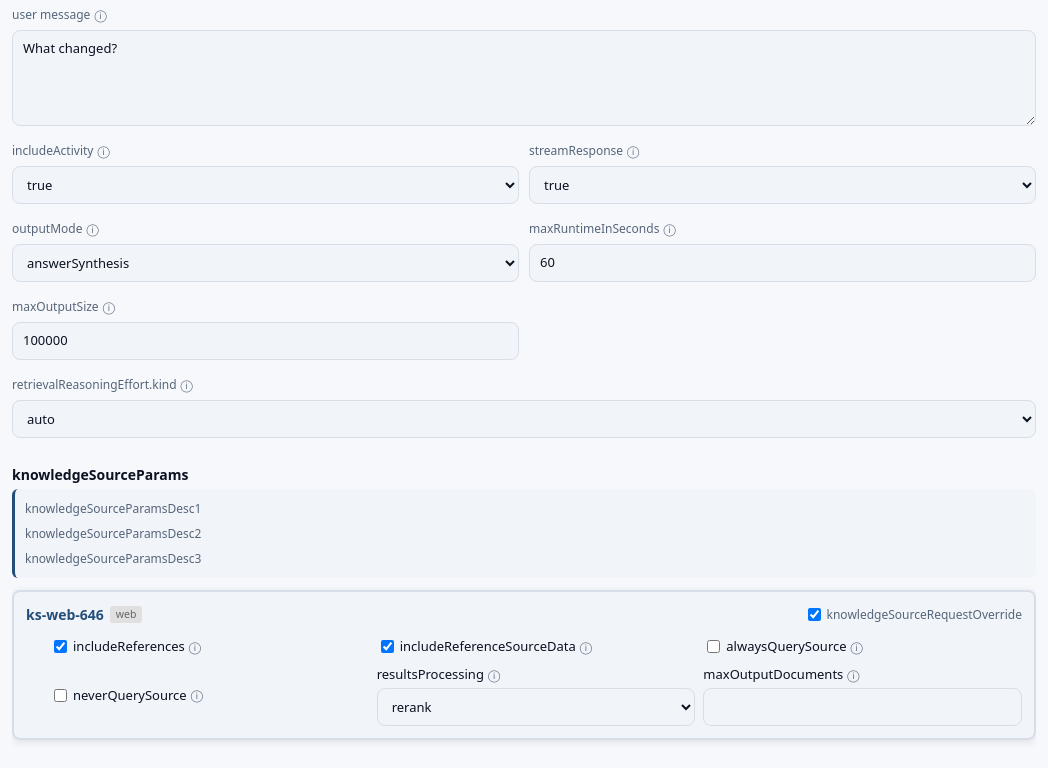
Test: AgenticBuilderForm › shows common runtime parameters for web sources without query hints
Check: the text "includeReferences" is shown, box x1=73 y1=637 x2=185 y2=655
Check: the text "includeReferenceSourceData" is shown, box x1=400 y1=637 x2=576 y2=655
Click the checkbox labelled "knowledgeSourceRequestOverride" at (814, 615), box x1=808 y1=608 x2=820 y2=621
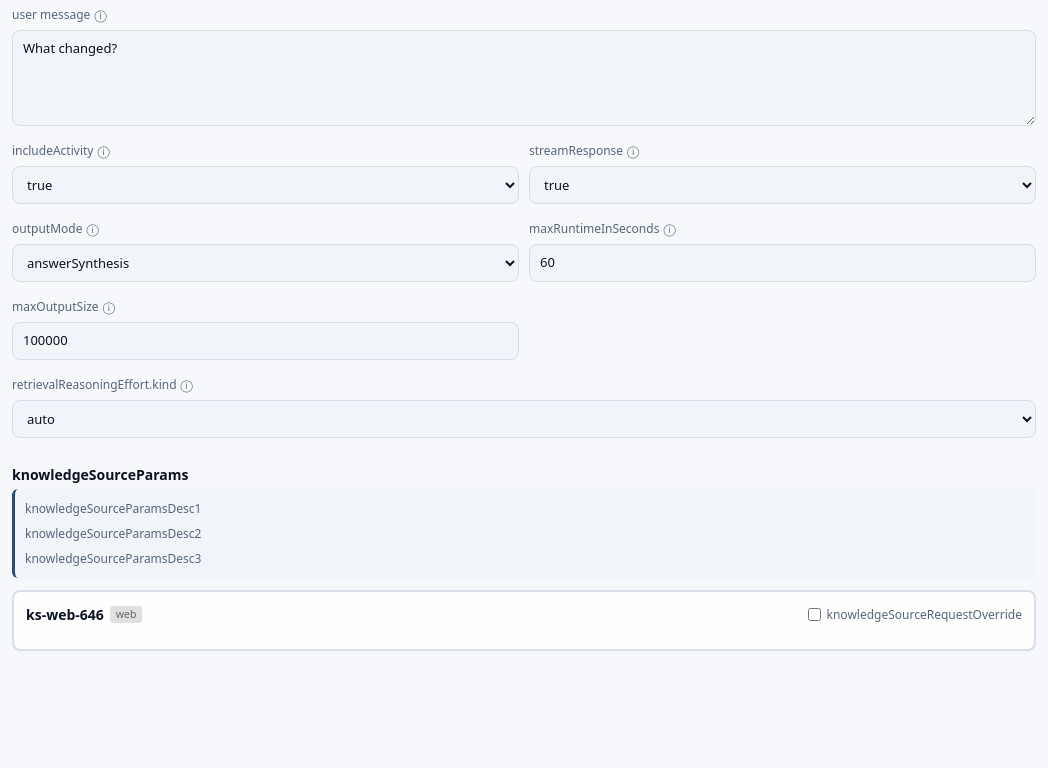
Check: the text "ks-web-646" is shown, box x1=26 y1=604 x2=104 y2=625
Check: the text "includeReferences" is gone
